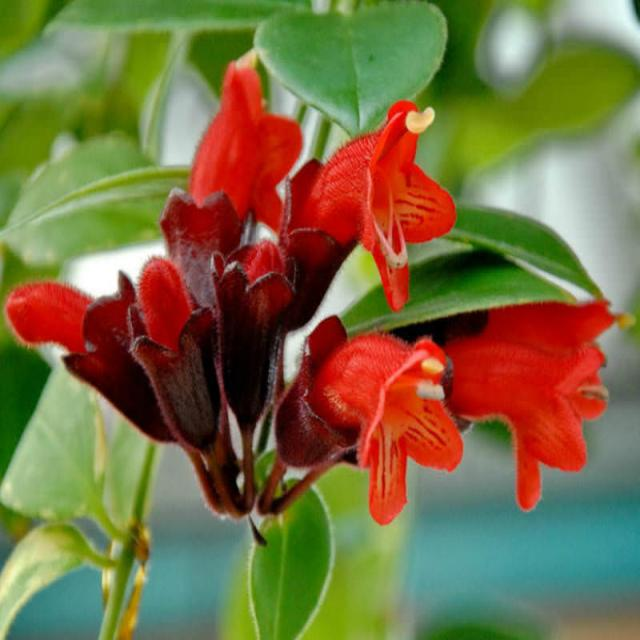Lipstick-Plant: (32, 81, 604, 521)
